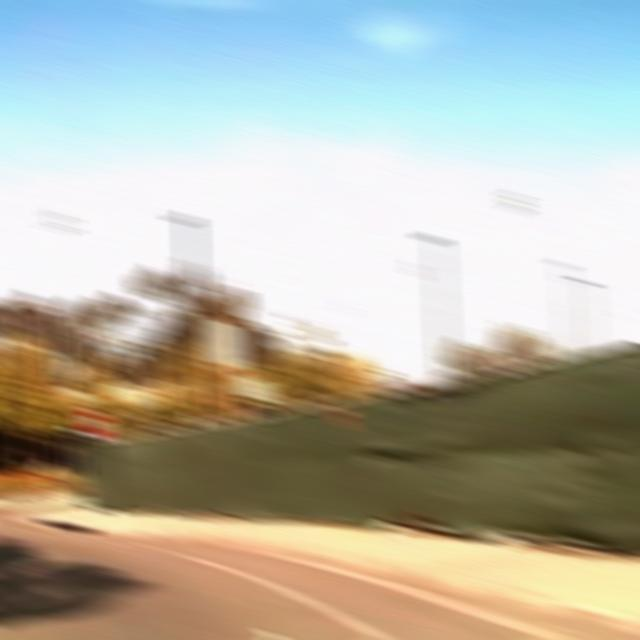stop_sign: (78, 407, 110, 438)
